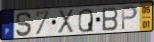7: (35, 10, 50, 37)
B: (101, 7, 119, 32)
P: (121, 5, 139, 32)
Q: (78, 8, 95, 34)
S: (15, 11, 33, 38)
X: (57, 8, 75, 34)
